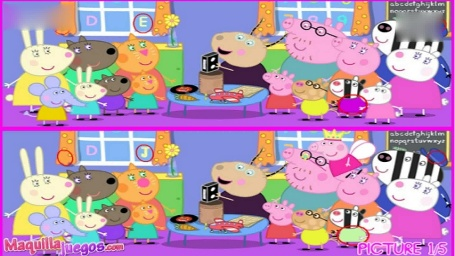Peppa: (309, 131, 375, 178), (260, 69, 301, 118), (262, 200, 300, 247)
